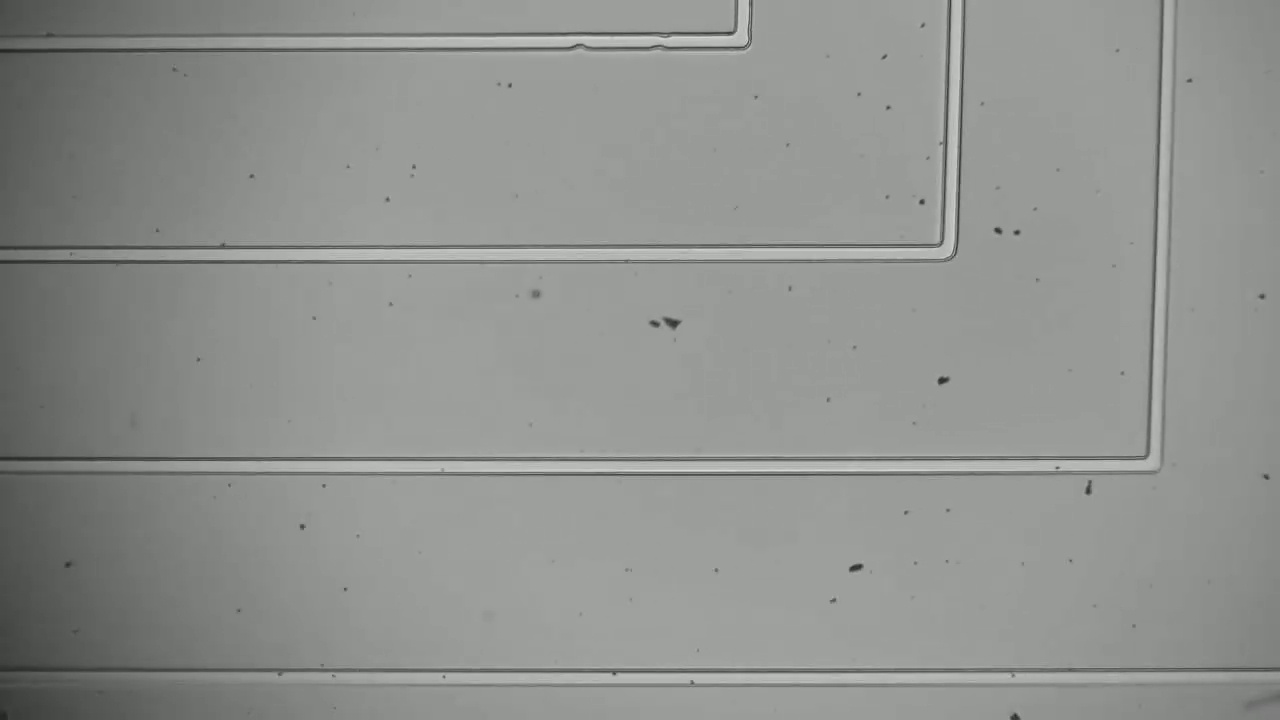edge_bite: (561, 26, 596, 60), (640, 27, 675, 57)
